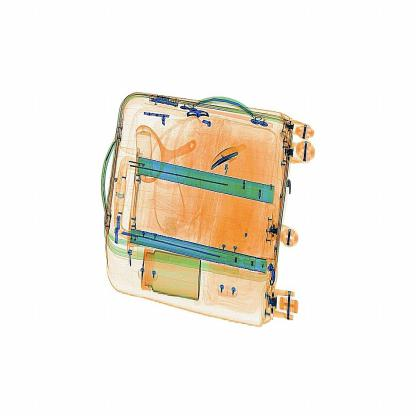pliers: (207, 138, 259, 180)
